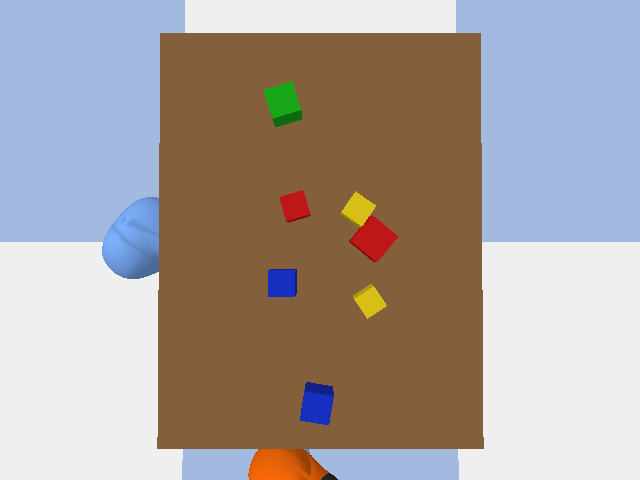blue_obj: (300, 382, 333, 424), (268, 269, 296, 296)
green_obj: (264, 81, 302, 126)
red_obj: (349, 215, 398, 261), (279, 190, 310, 222)
yellow_obj: (340, 191, 375, 227), (353, 284, 386, 318)
